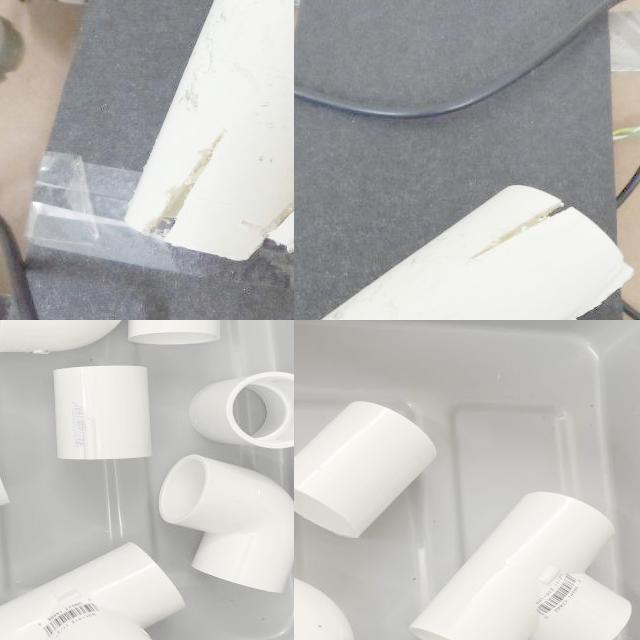Defective: (147, 130, 227, 240), (430, 202, 564, 264), (529, 245, 621, 302), (614, 289, 625, 301)
T Joint: (408, 492, 632, 640)
